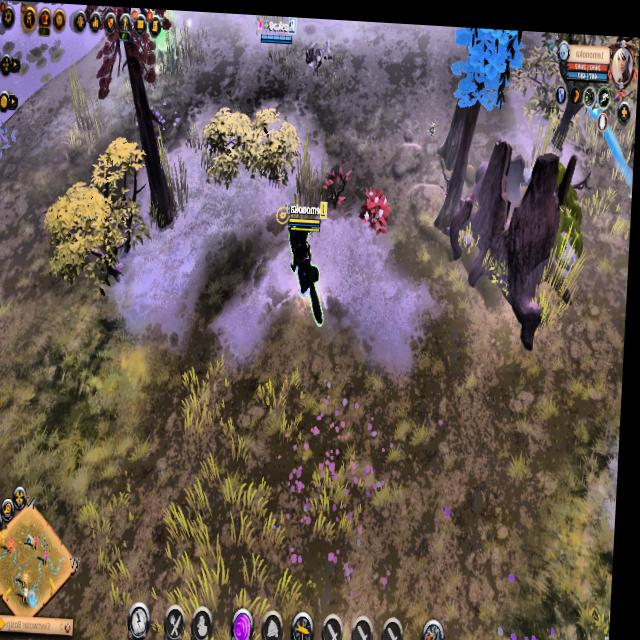fiber tier 5: (358, 179, 394, 236)
